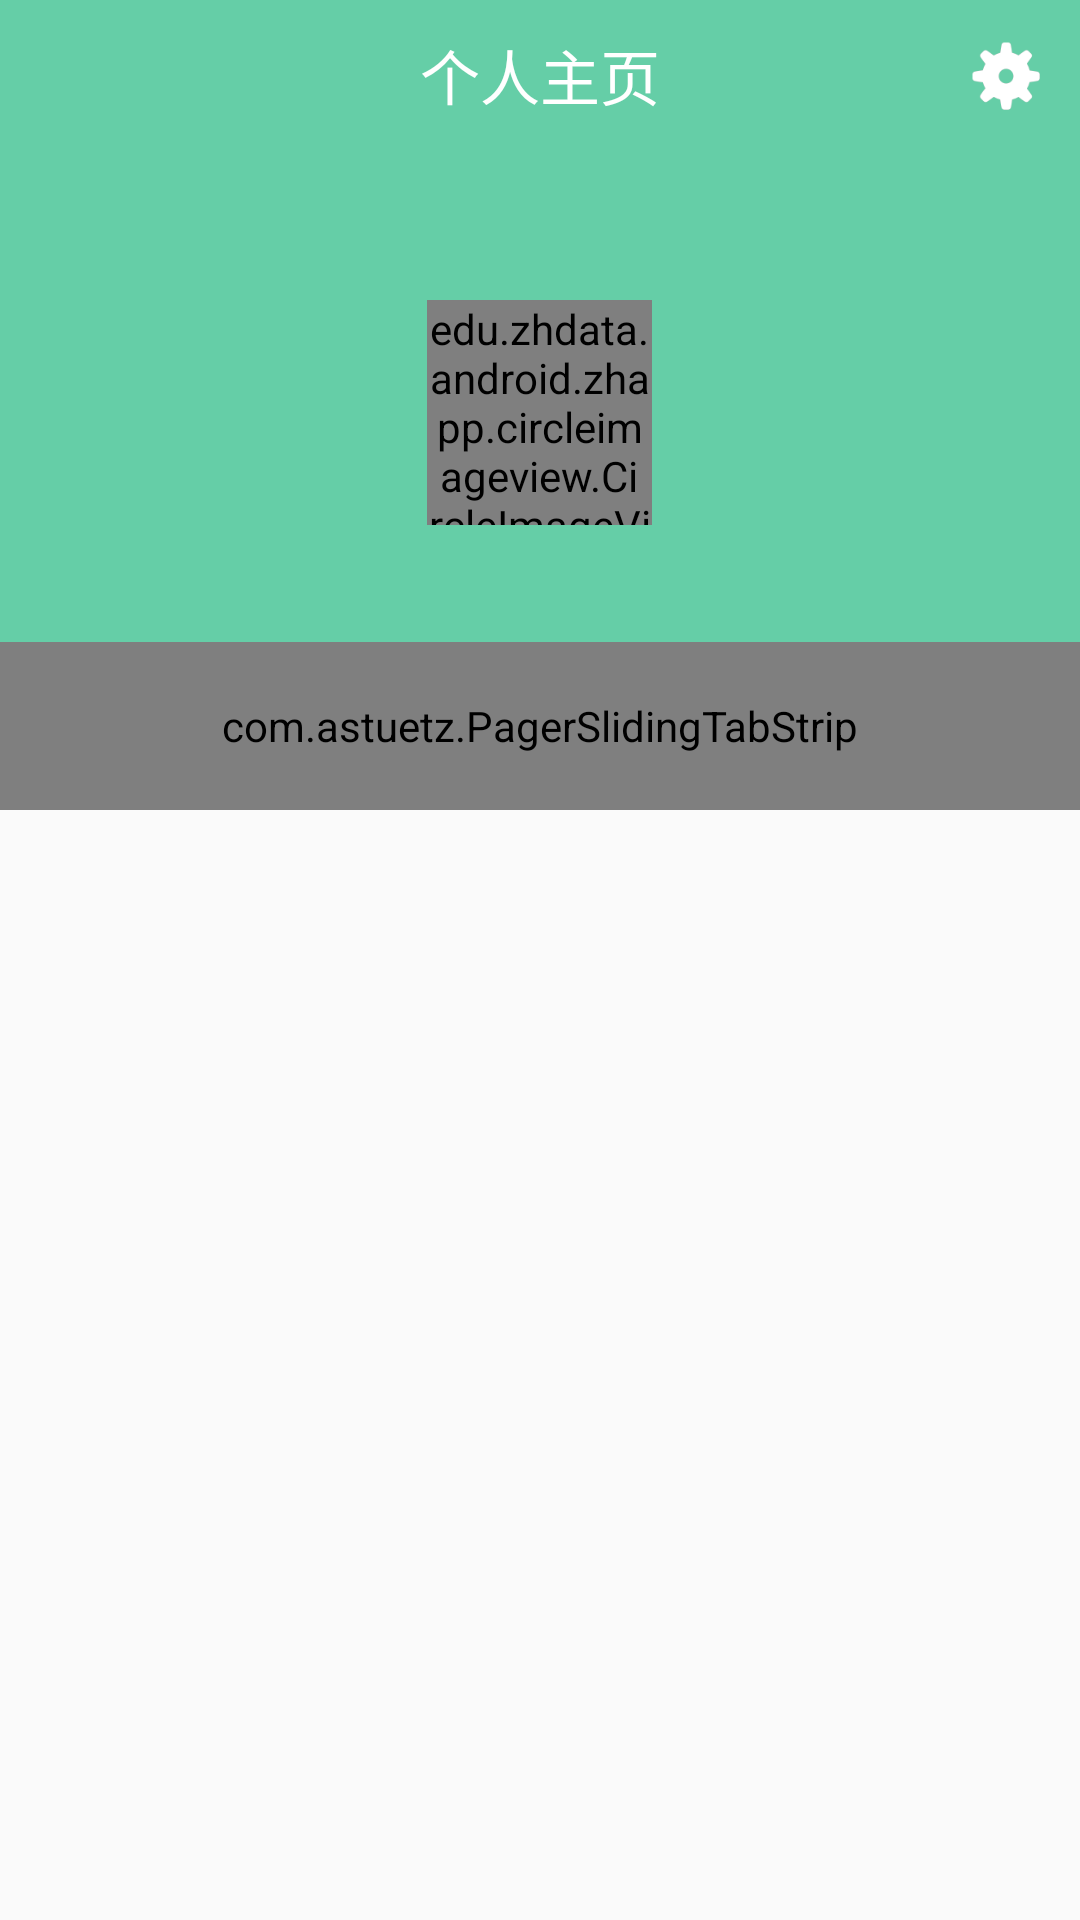

Where icons sit on this 1080px x 1920px app screen, as (x1, y1, x2, y2):
setup: (972, 42, 1040, 110)
